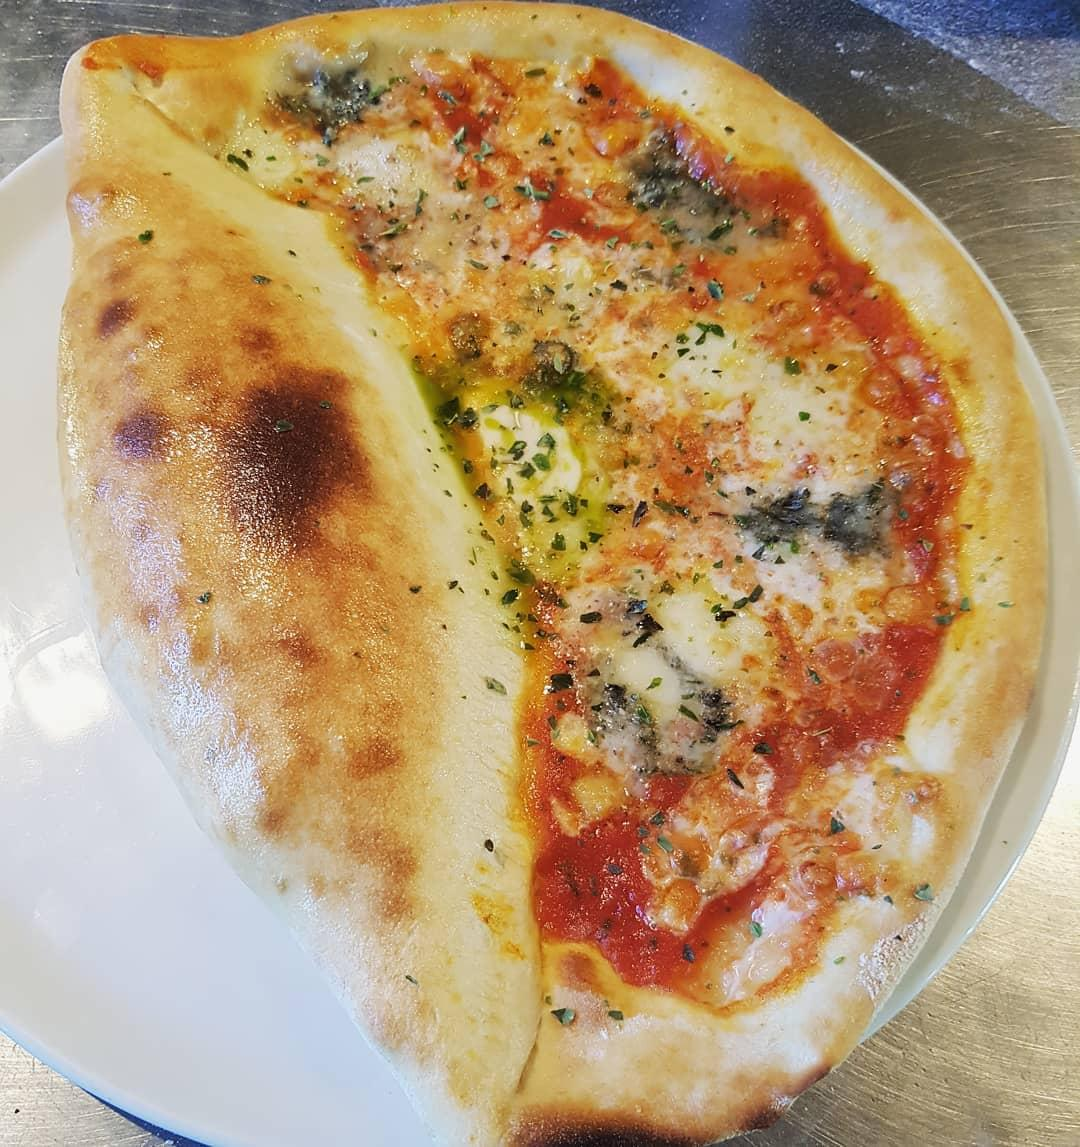Cheese: (363, 148, 497, 297), (750, 370, 867, 493)
Pizza: (93, 25, 1013, 1105)
